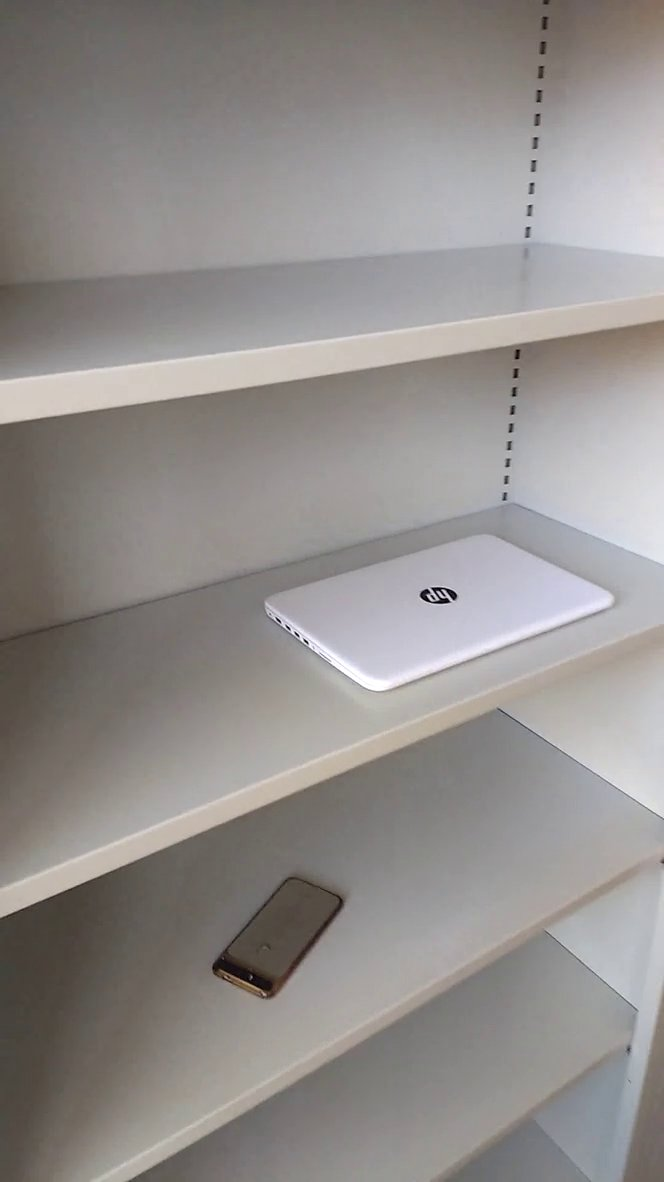laptop: (251, 522, 631, 705)
phone: (203, 868, 351, 1011)
